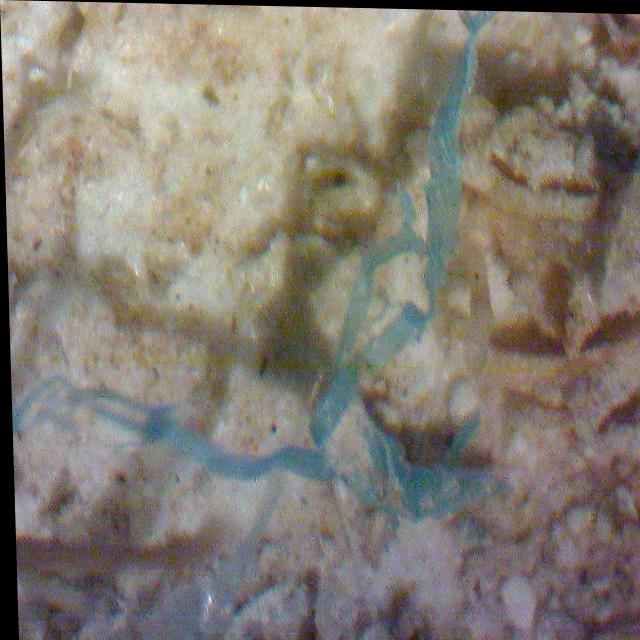microplastic: (9, 8, 508, 517)
